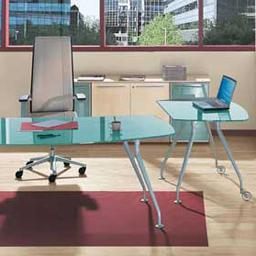Ventana: (3, 0, 255, 48)
